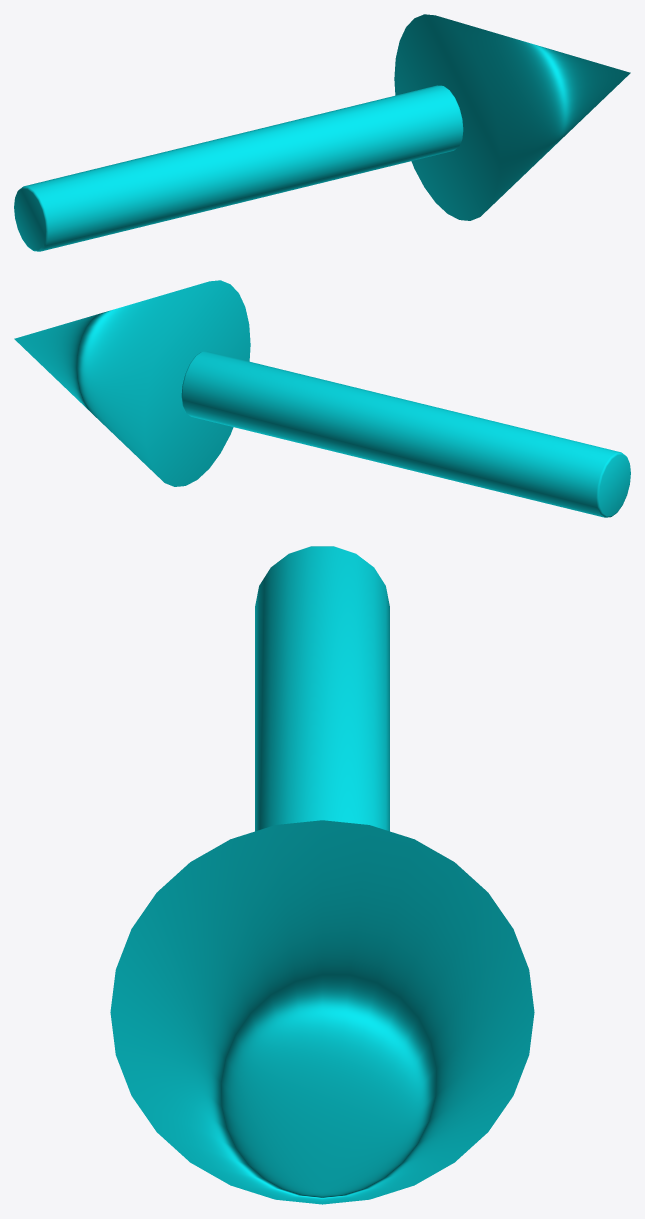
Rendered from pipe-flow-arrow.glb.
The picture shows the model from 3 angles, top to bottom: view 1: azimuth 30°, elevation 25°; view 2: azimuth 150°, elevation 25°; view 3: azimuth 270°, elevation 25°; orthographic projection. The views are drawn at different scales.
Parts seen in each view (by area): view 1: flow arrow shaft, flow arrow head; view 2: flow arrow shaft, flow arrow head; view 3: flow arrow head, flow arrow shaft.
Part boxes in pixels (x1,y1,x2,y2): flow arrow shaft: (14,85,463,251); flow arrow head: (394,14,630,220); flow arrow shaft: (181,351,630,517); flow arrow head: (14,280,250,486); flow arrow head: (110,820,534,1204); flow arrow shaft: (255,546,389,831).
Bounding box in the file's own units: 0.72 × 0.22 × 0.22.
